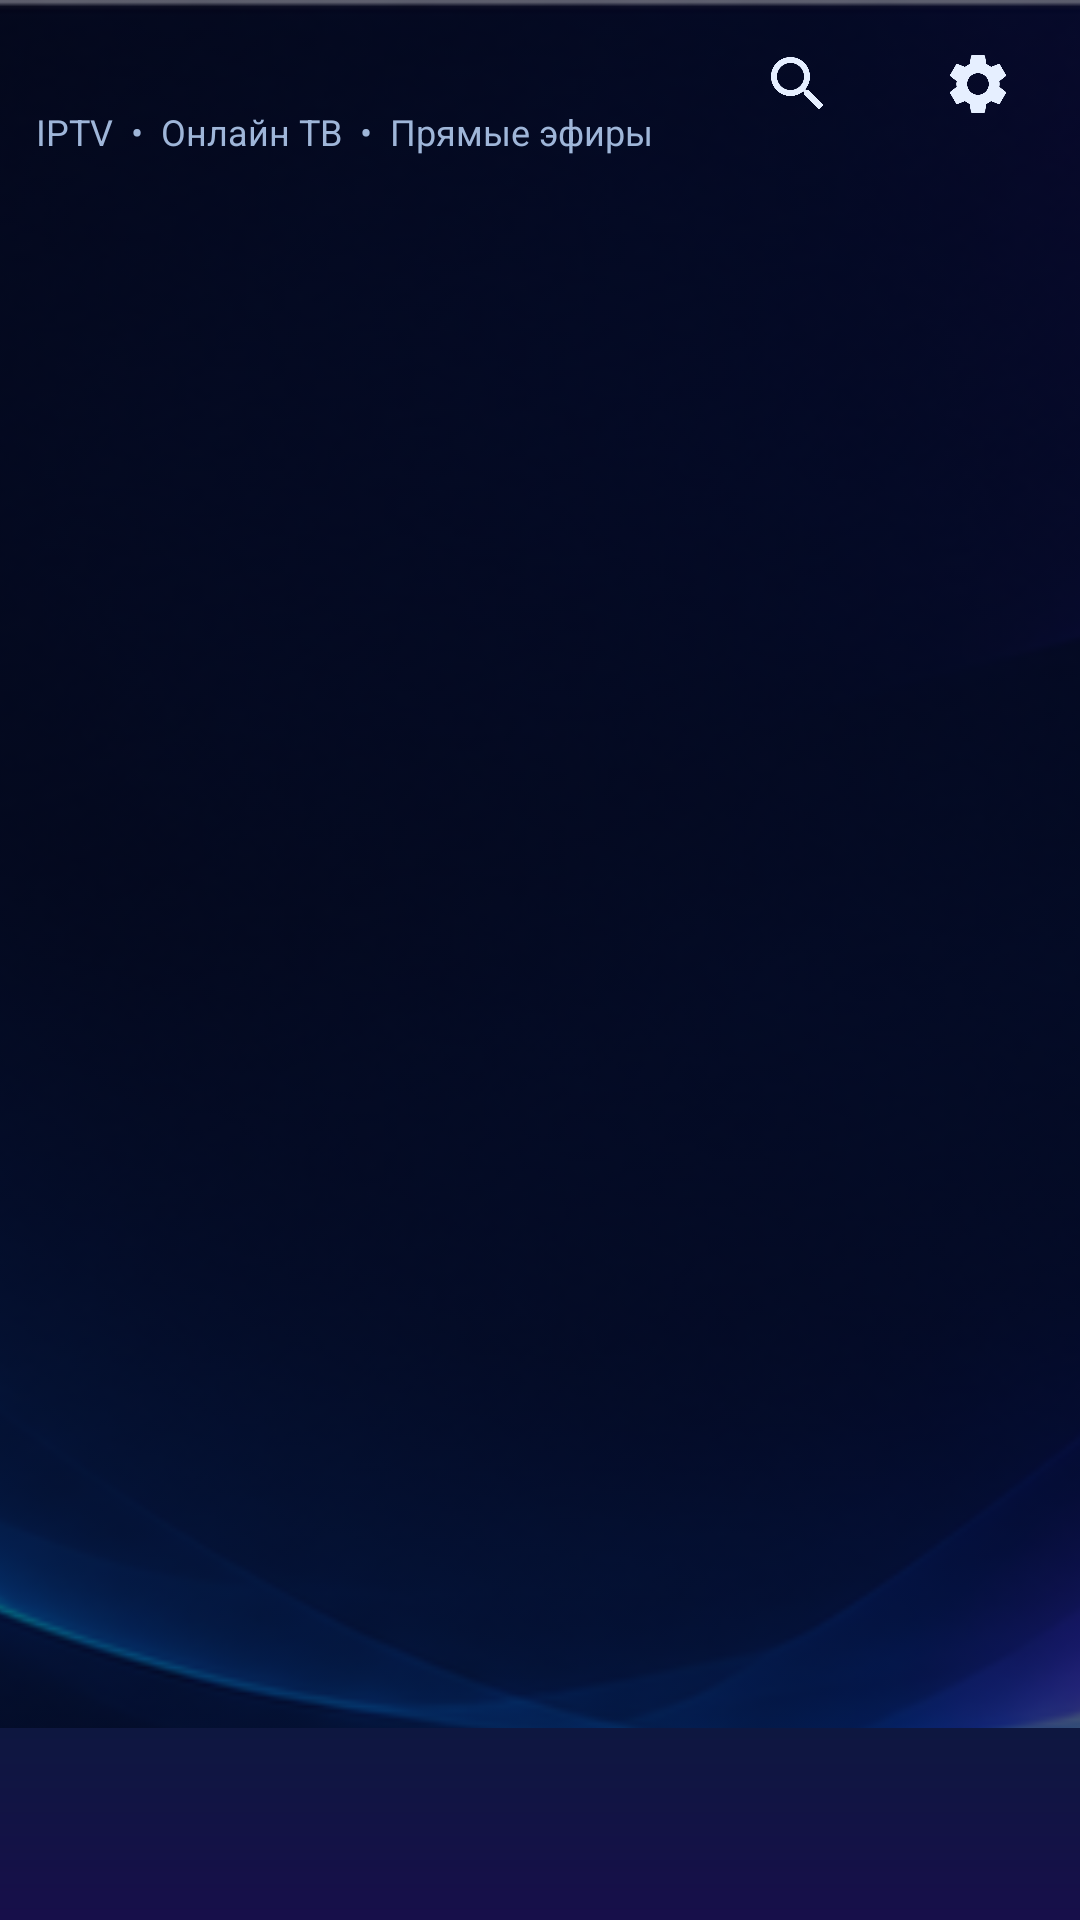

Screen size 1080 x 1920. Icon name, then its center in pixels as (x,y):
Настройки: (978,84)
Поиск: (797,83)
